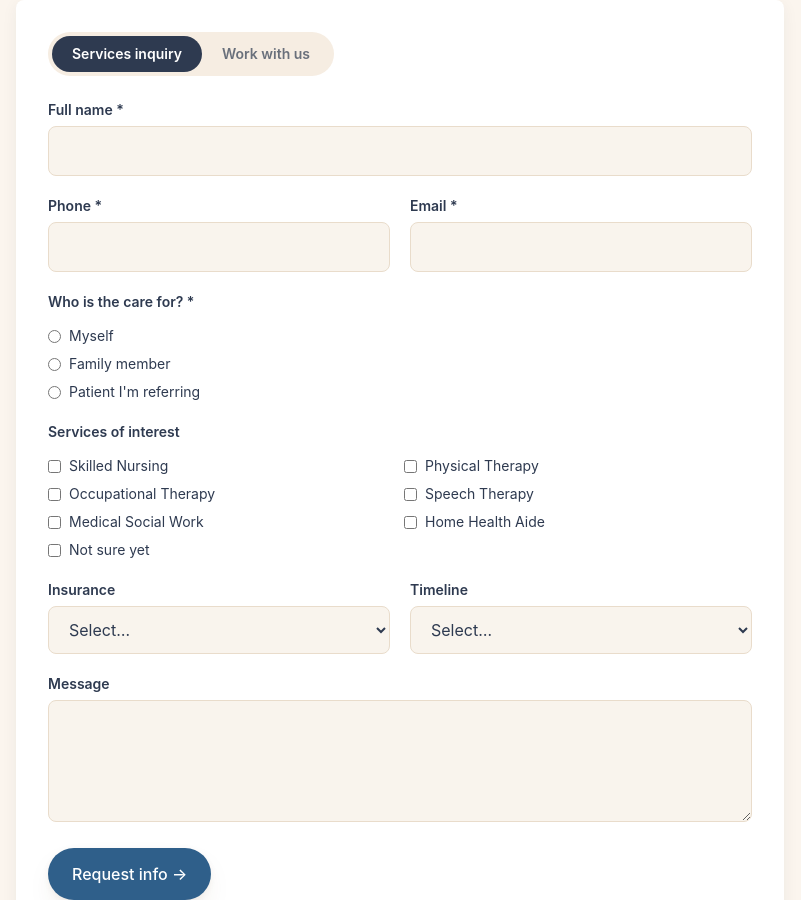
Scenario: LeadForm › switches to employment tab and shows employment-only fields
Click the tab "Work with us".
click(266, 54)  # box [202,36,330,72]
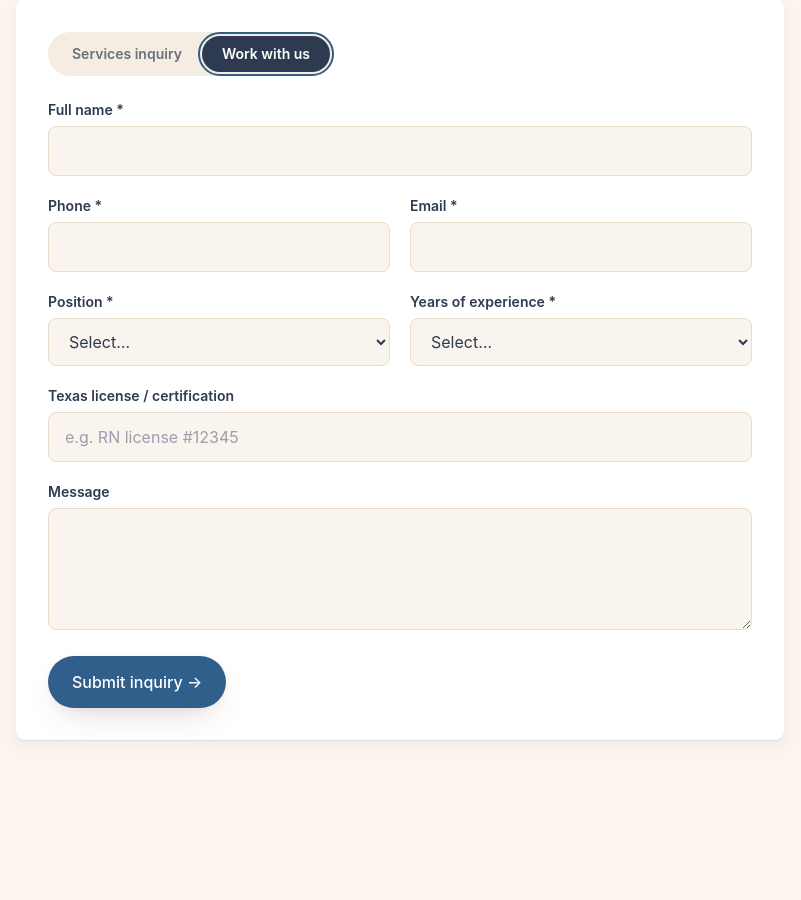
Check: the dropdown labelled "Position *" is shown, box [48,318,390,366]
Check: the dropdown labelled "Years of experience *" is shown, box [410,318,752,366]
